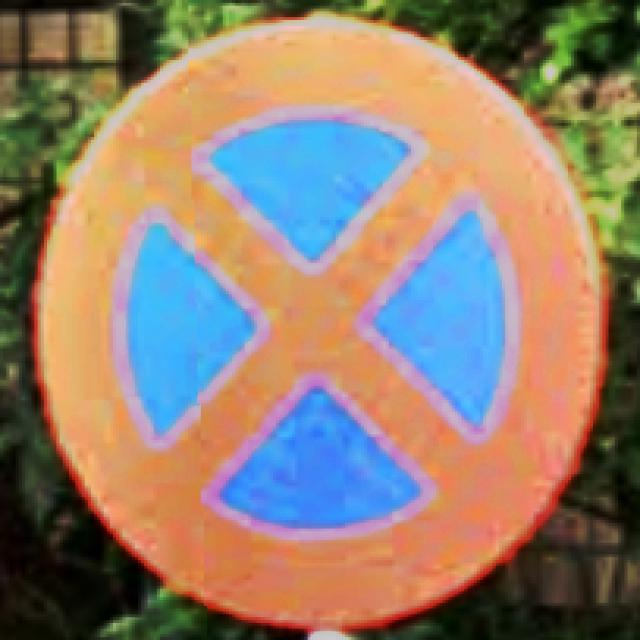nopark: (31, 14, 612, 640)
